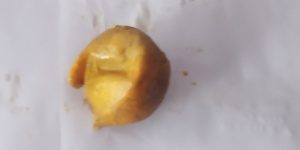BAD: (68, 23, 174, 128)
